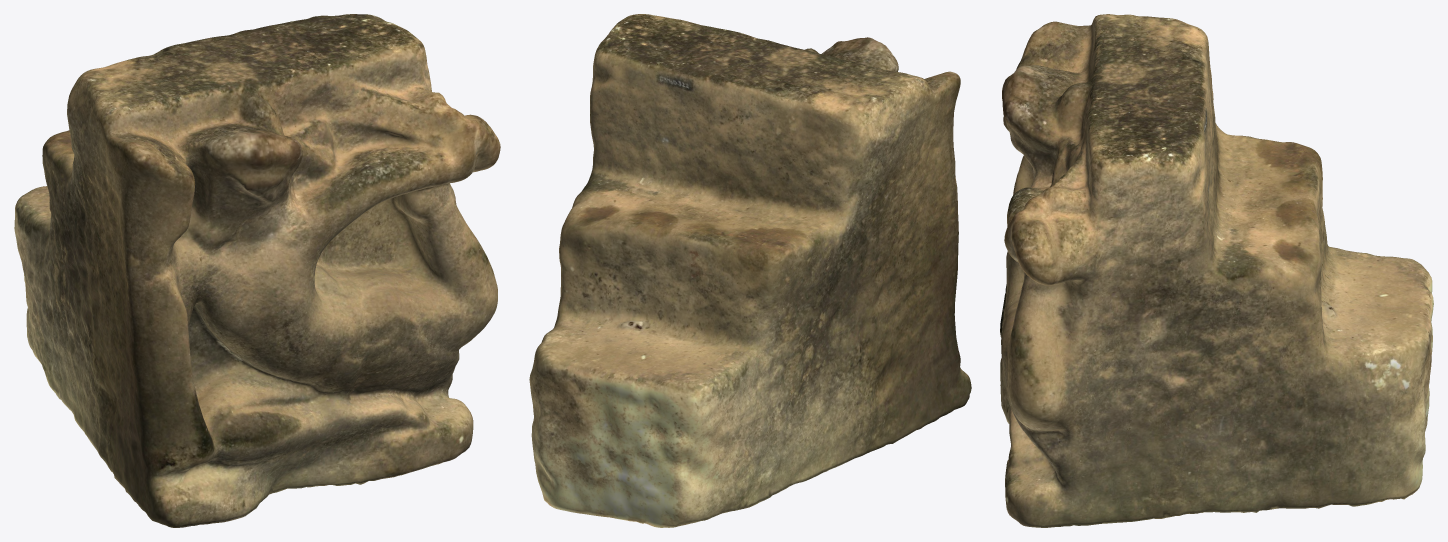
File: 26_MysonSanctuaryD2_chiensibay_final.glb
3 renders of one model, left to right at view 1: azimuth 30°, elevation 25°; view 2: azimuth 150°, elevation 25°; view 3: azimuth 270°, elevation 25°, orthographic. The views are drawn at different scales.
Bounding box in the file's own units: 1.19 × 1.22 × 1.28.
1 material, 1 textured.
